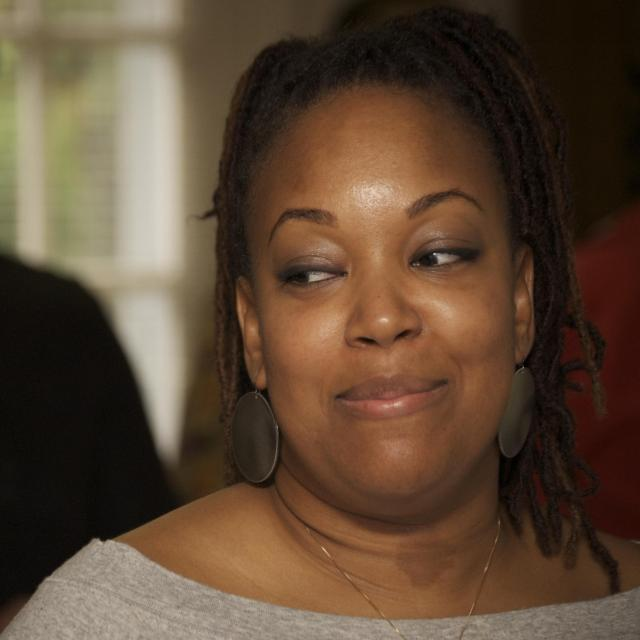no-glass: (279, 243, 485, 291)
